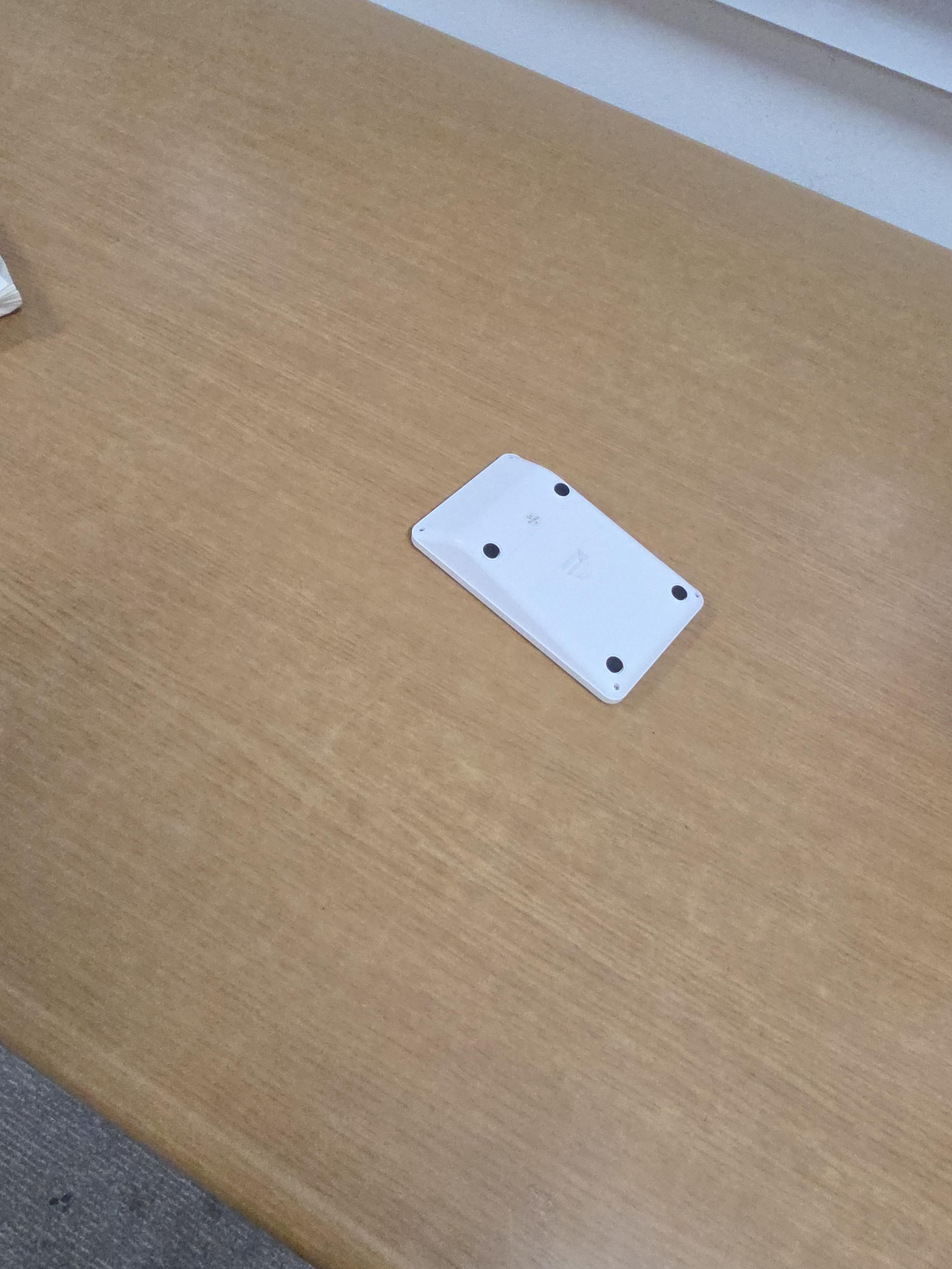calculator: (410, 452, 705, 705)
tissue: (0, 255, 23, 317)
